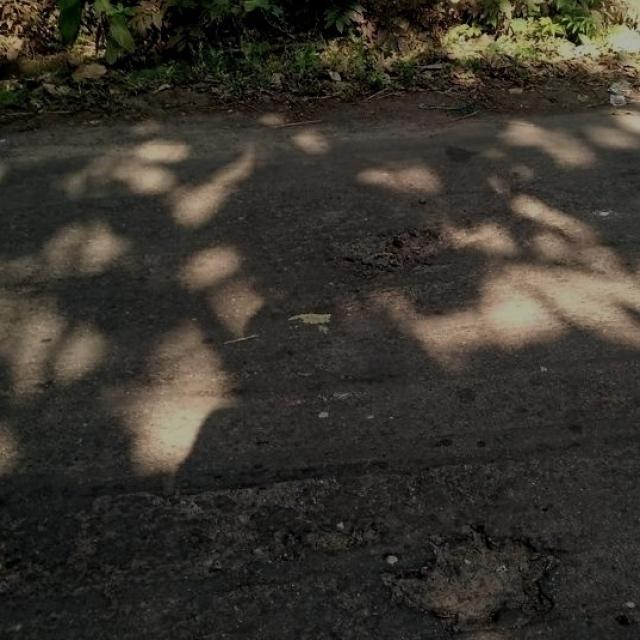road-pothole: (387, 519, 565, 635), (350, 229, 450, 284)
